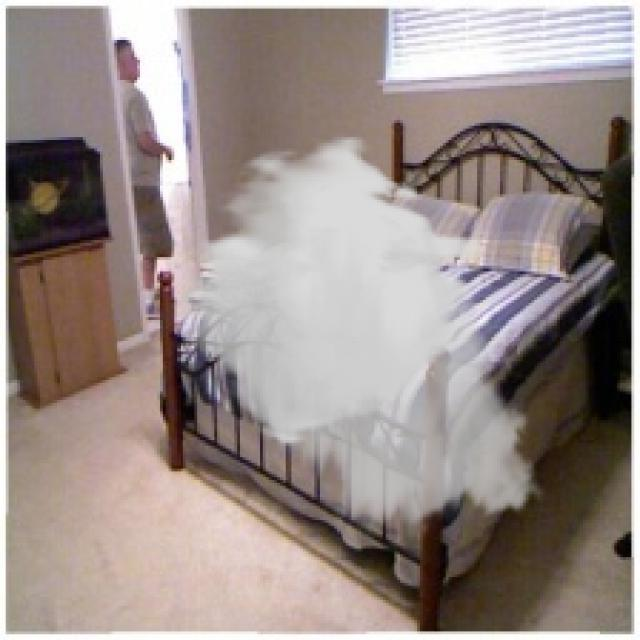Smoke: (179, 135, 552, 540)
